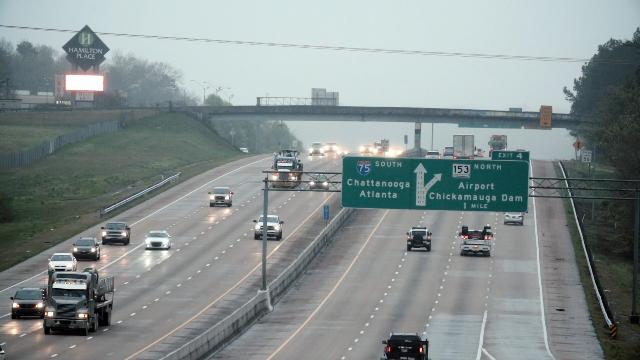car: (385, 333, 431, 360), (12, 286, 47, 321), (252, 216, 285, 242), (73, 232, 102, 261), (407, 224, 434, 253), (47, 251, 78, 276), (104, 218, 131, 244), (145, 229, 172, 250), (207, 186, 234, 207), (309, 172, 331, 192), (503, 211, 525, 225), (308, 142, 325, 156), (443, 146, 455, 157), (474, 149, 485, 157), (362, 147, 372, 154)
truck: (46, 272, 116, 336), (268, 151, 303, 189), (456, 224, 493, 258), (488, 134, 507, 157)
